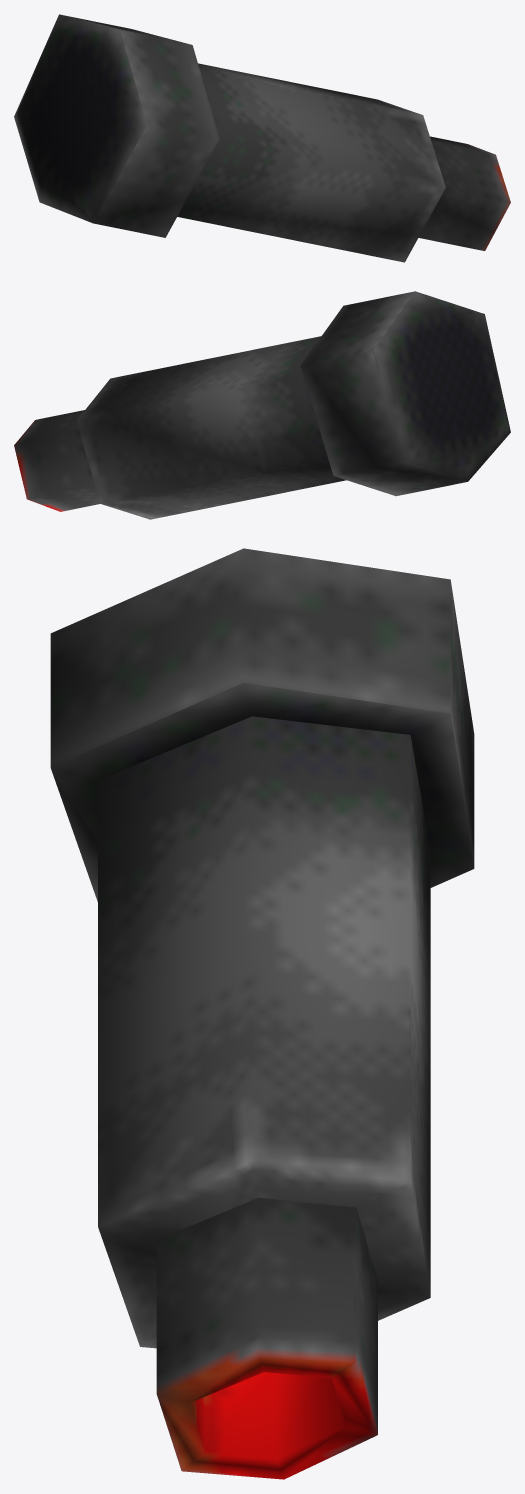
The model's file is EnemyModelWeapons.fbx.
3 renders of one model, top to bottom at view 1: azimuth 30°, elevation 25°; view 2: azimuth 150°, elevation 25°; view 3: azimuth 270°, elevation 25°, orthographic. The views are drawn at different scales.
Parts seen in each view (by area): view 1: Guns.002; view 2: Guns.002; view 3: Guns.002.
Part boxes in pixels (left/top/right/bottom): Guns.002: left=14, top=14, right=510, bottom=262; Guns.002: left=14, top=291, right=510, bottom=519; Guns.002: left=50, top=548, right=474, bottom=1479.
Size of the model in its own units: 1.84 by 1.18 by 0.7602.
